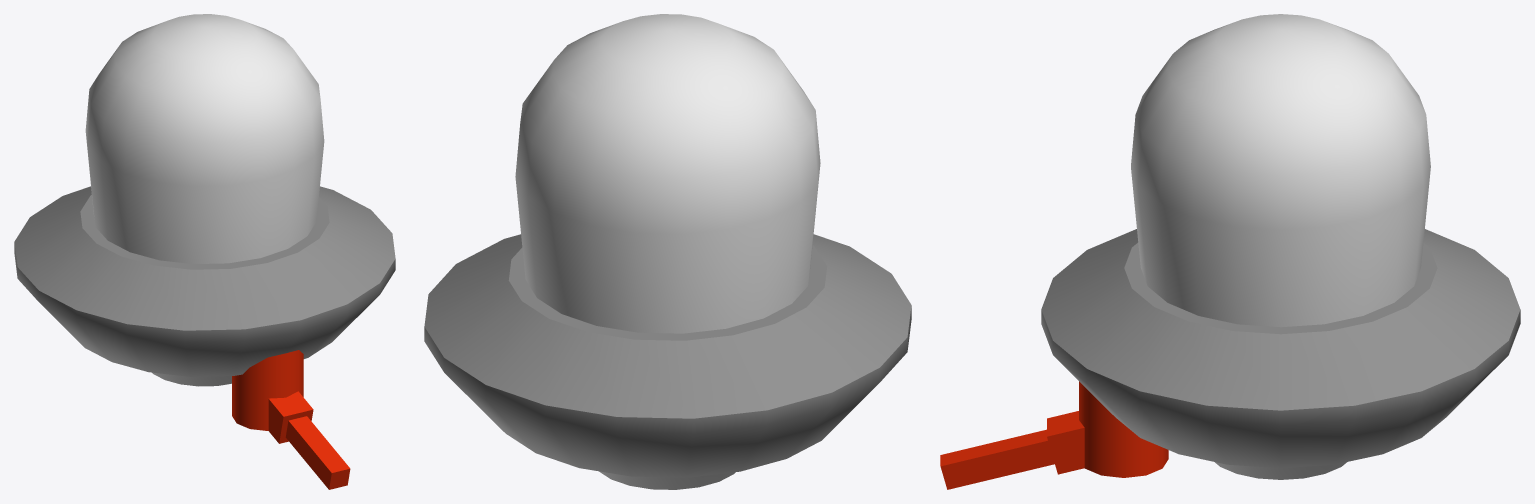
Rendered from SpaceShip.fbx.
The picture shows the model from 3 angles, left to right: view 1: azimuth 30°, elevation 25°; view 2: azimuth 150°, elevation 25°; view 3: azimuth 270°, elevation 25°; orthographic projection. The views are drawn at different scales.
Visible parts, largest first — view 1: Circle, Cube; view 2: Circle; view 3: Circle, Cube.
Boxes of the visible parts, x1,y1,x2,y2 form: Circle: (14, 14, 395, 386); Cube: (232, 350, 350, 489); Circle: (424, 14, 911, 489); Circle: (1041, 14, 1520, 479); Cube: (940, 381, 1168, 489).
Bounding box in the file's own units: 2.13 × 2.23 × 2.58.
